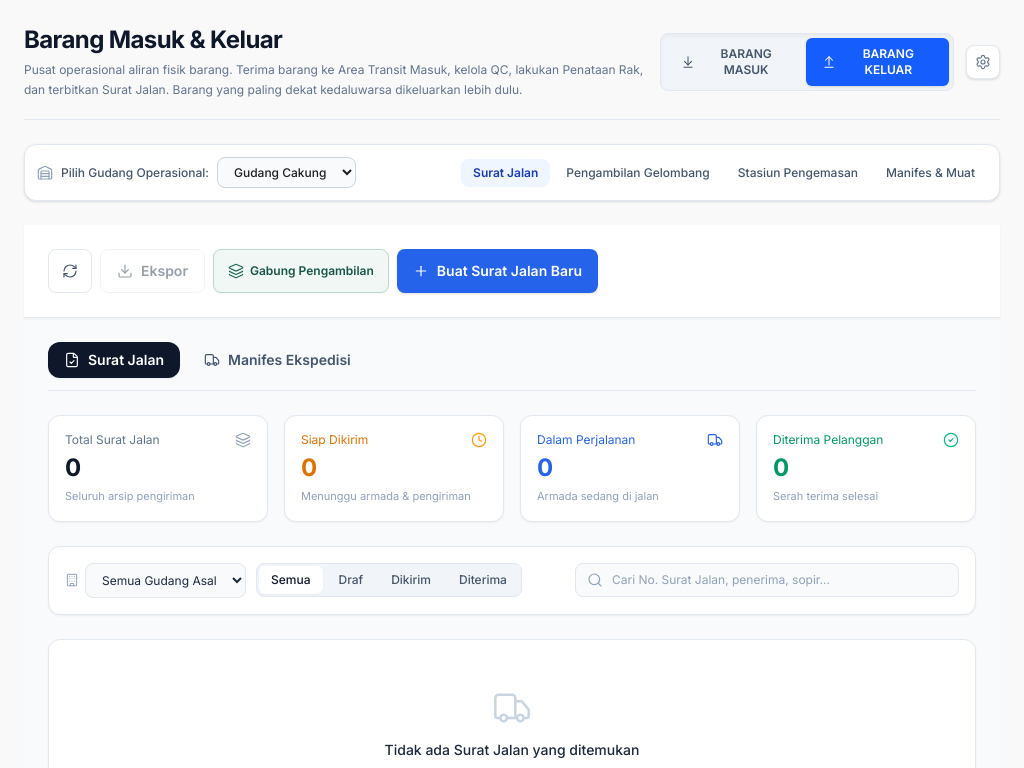
it: Unified Arus Barang Page (KO-2a & Sprint 1) › Buat Surat Jalan button opens the create DO form
What coordinates should you click on to do the following:
click the button "Buat Surat Jalan Baru"
I would click on:
 (498, 271)
Its box is [397,249,598,293].
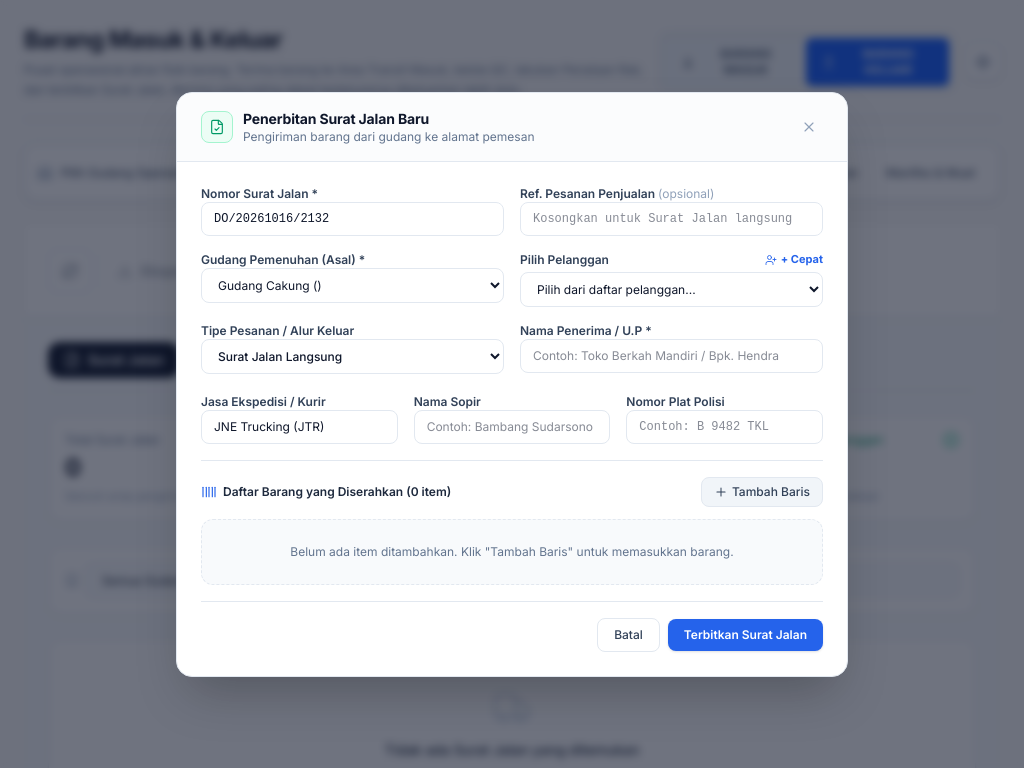
Now the dialog is shown, box [176,92,848,676]
